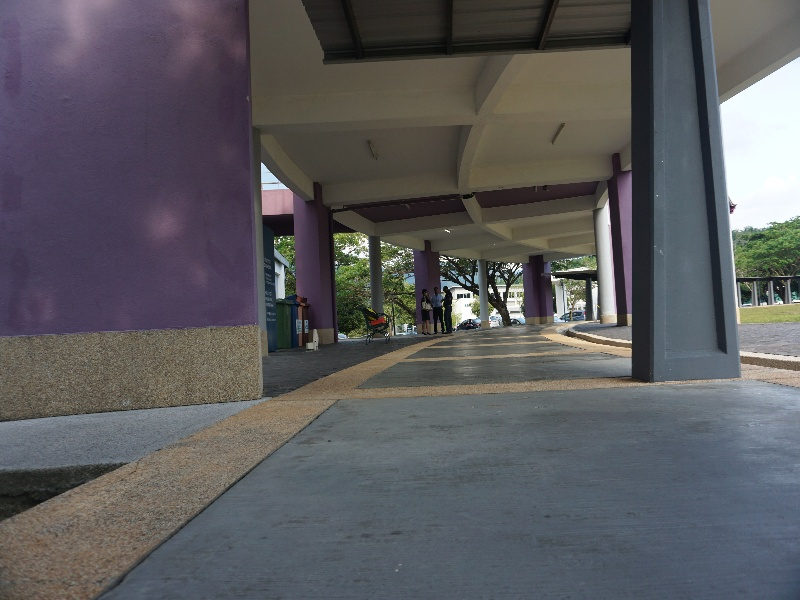pillar: (9, 6, 270, 405), (624, 5, 739, 390), (289, 170, 341, 344)
